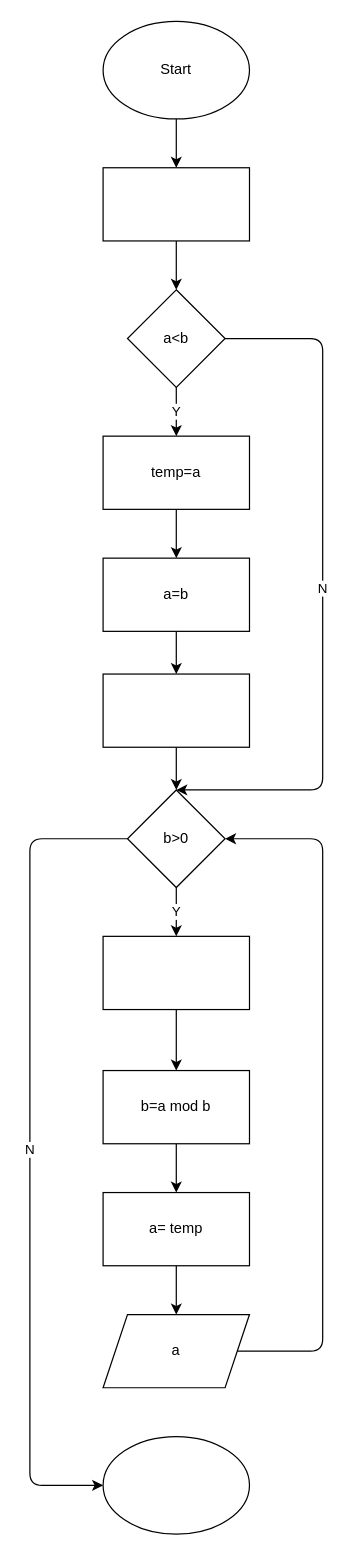
Image size: 354x1556. Some labels were removed from this diagram. The shapes that lost their labels are listed below. From the top down, each one's centre as x and y in pixels, then its label:
At point (175, 204): "Read a and b".
At point (175, 710): "b=temp".
At point (175, 972): "temp=b".
At point (175, 1484): "Stop".
